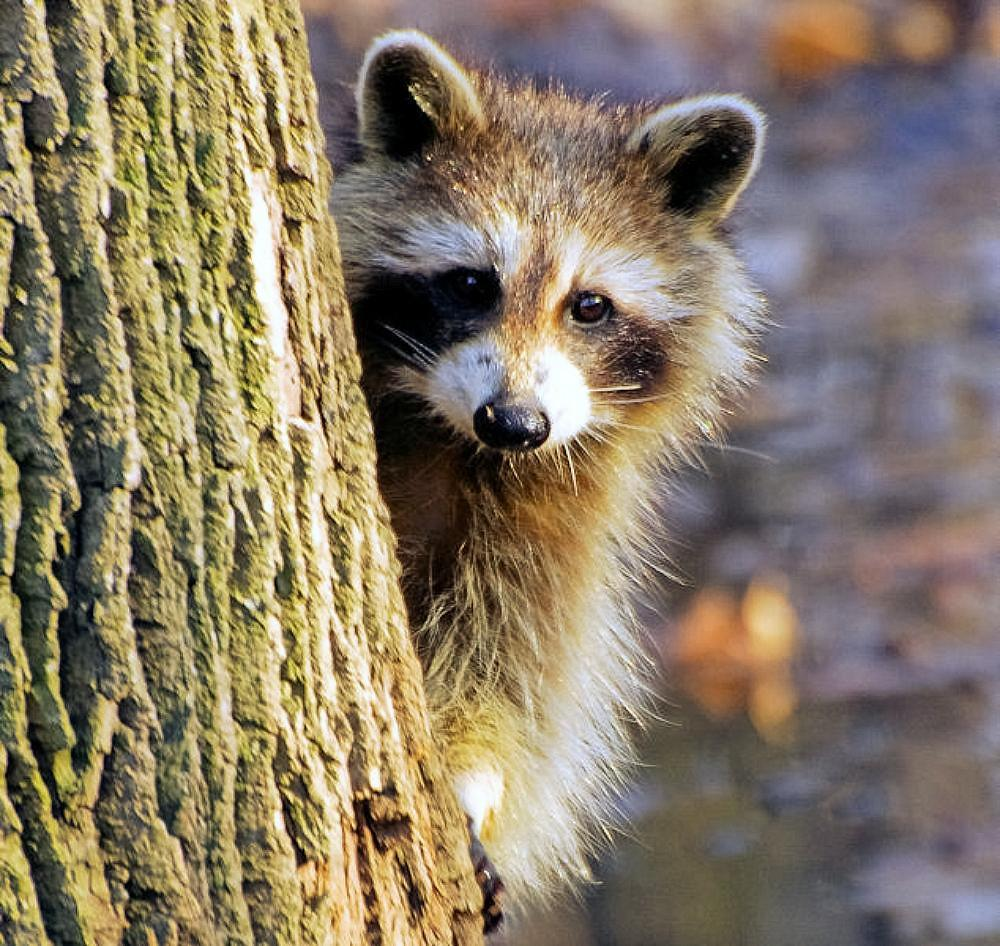raccoon: (302, 18, 780, 909)
